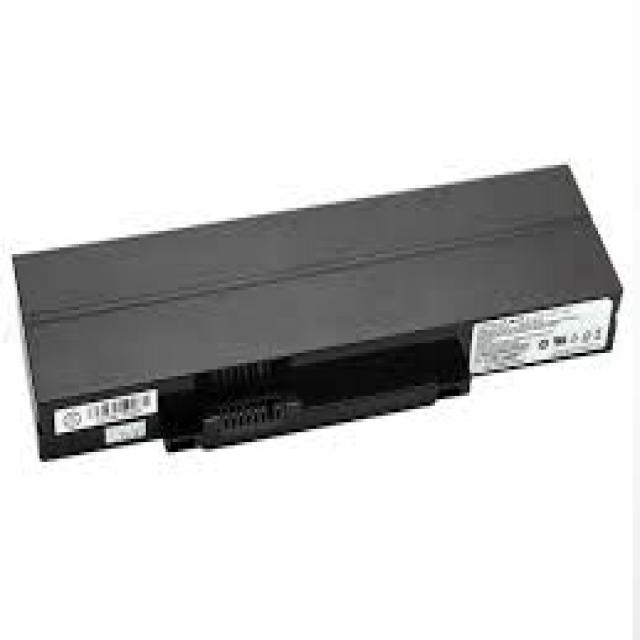non-organic waste: (9, 160, 622, 463)
